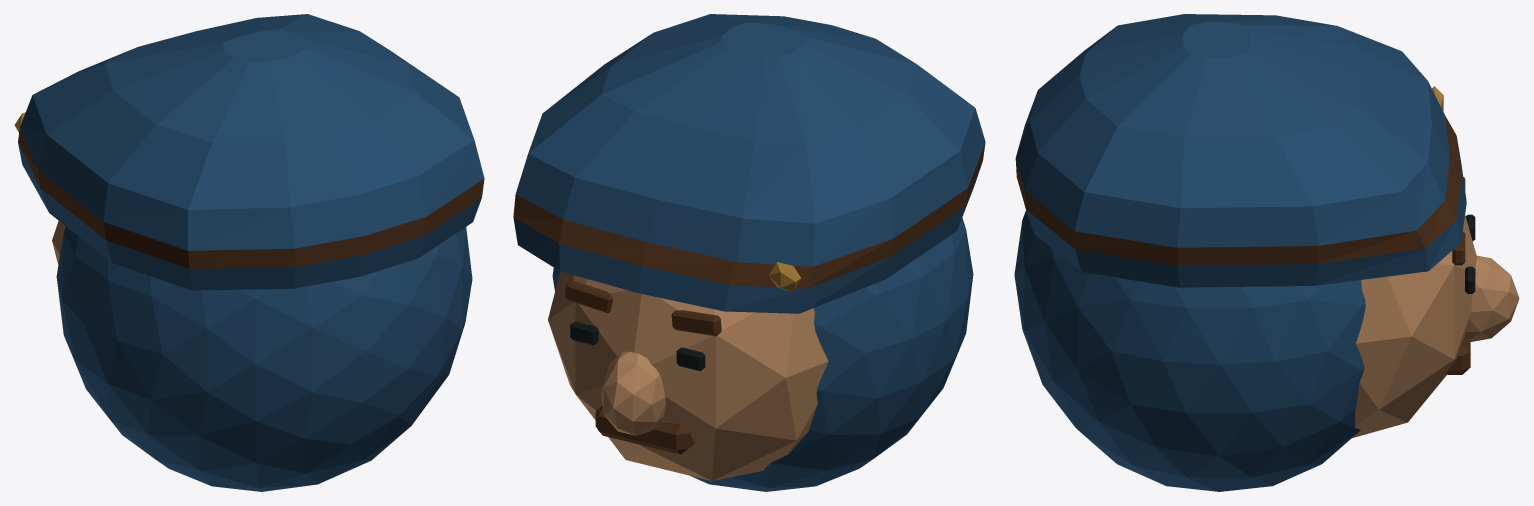
Rendered from Head.glb.
3 views of the same model, side by side, from view 1: azimuth 30°, elevation 25°; view 2: azimuth 150°, elevation 25°; view 3: azimuth 270°, elevation 25° (orthographic).
Visible parts, largest first — view 1: Sculpture; view 2: Sculpture; view 3: Sculpture.
Part boxes in pixels (x1=…): Sculpture: x1=14, y1=14, x2=484, y2=491; Sculpture: x1=513, y1=14, x2=985, y2=491; Sculpture: x1=1014, y1=14, x2=1519, y2=491.
Bounding box in the file's own units: 0.5603 × 0.632 × 0.665.
